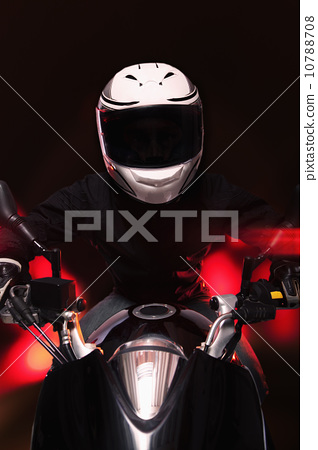helmet: (91, 60, 214, 194)
